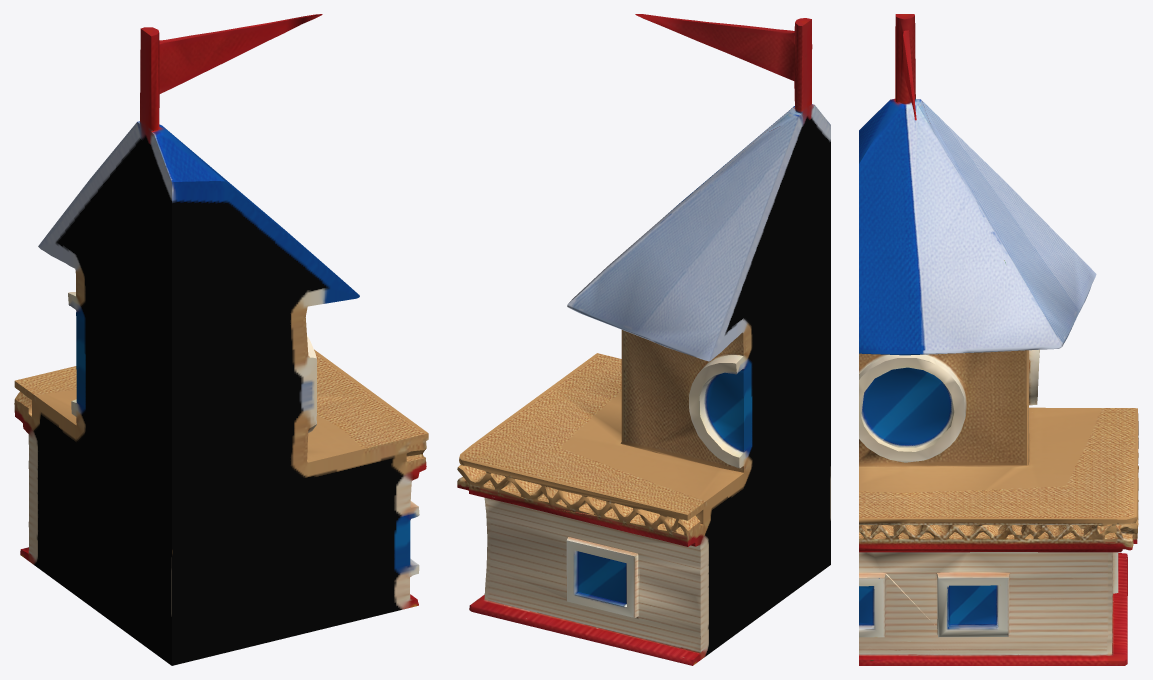
File: 16-topper-back-right.fbx
3 renders of one model, left to right at view 1: azimuth 30°, elevation 25°; view 2: azimuth 150°, elevation 25°; view 3: azimuth 270°, elevation 25°, orthographic. The views are drawn at different scales.
Visible parts, largest first — view 1: topper-back-right; view 2: topper-back-right; view 3: topper-back-right.
Part boxes in pixels (x1,y1,x2,y2): topper-back-right: (14,14,428,665); topper-back-right: (457,14,830,665); topper-back-right: (859,14,1138,665).
Bounding box in the file's own units: 4292 × 9817 × 4569.
Materials: 1 (1 with a texture image).
